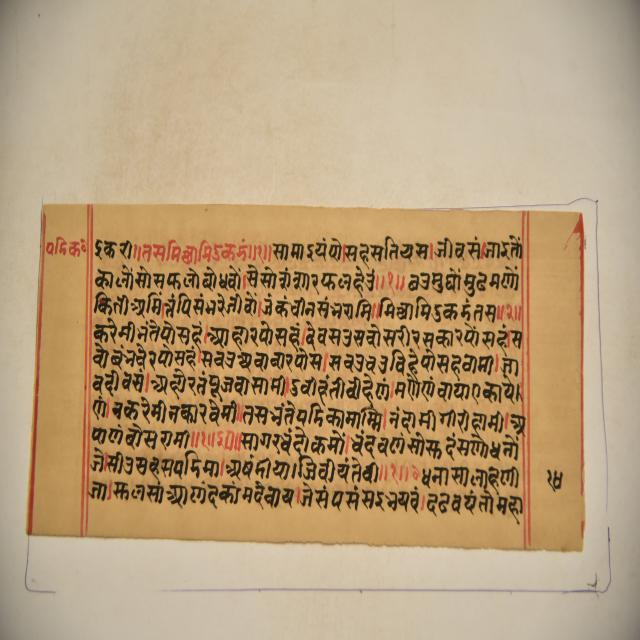text_paragraph: (22, 203, 583, 555)
